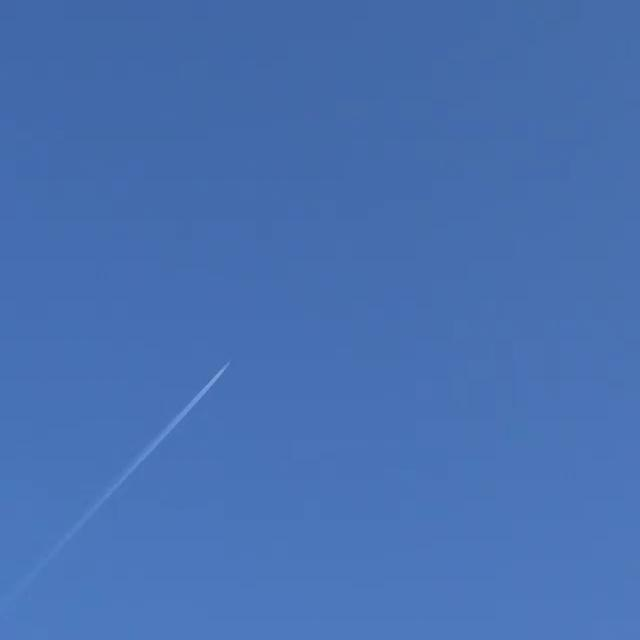AirPlane: (182, 349, 238, 416)
